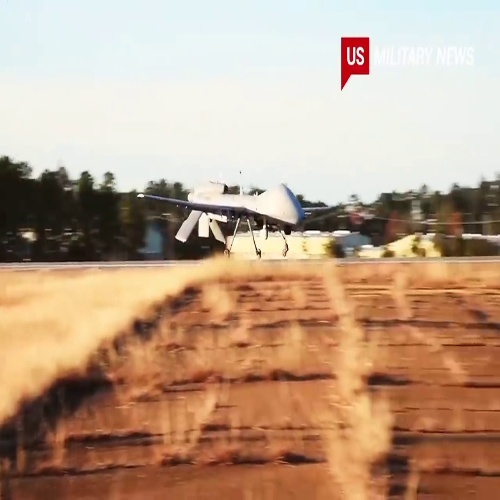uav613: (134, 176, 353, 263)
